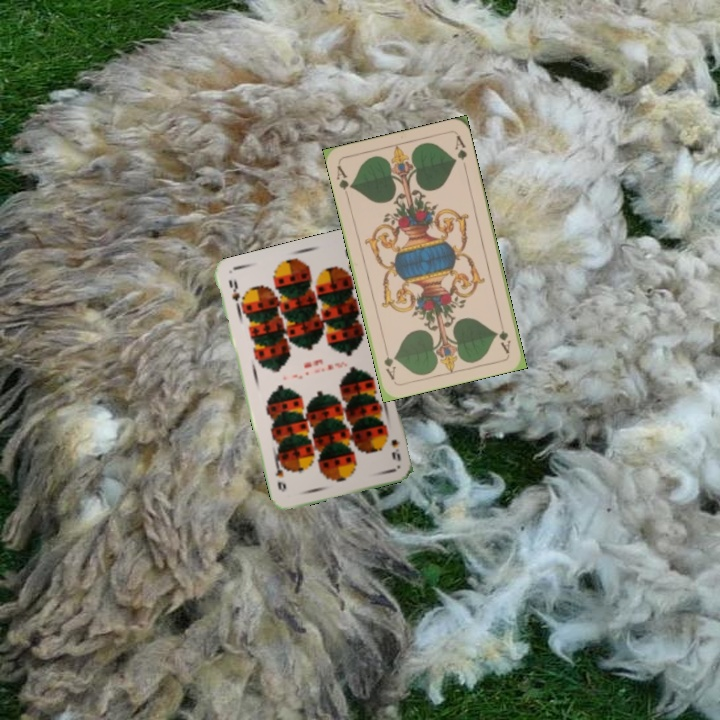GA: (332, 161, 355, 201), (495, 327, 513, 356)
S9: (224, 276, 245, 312), (387, 435, 403, 463)
